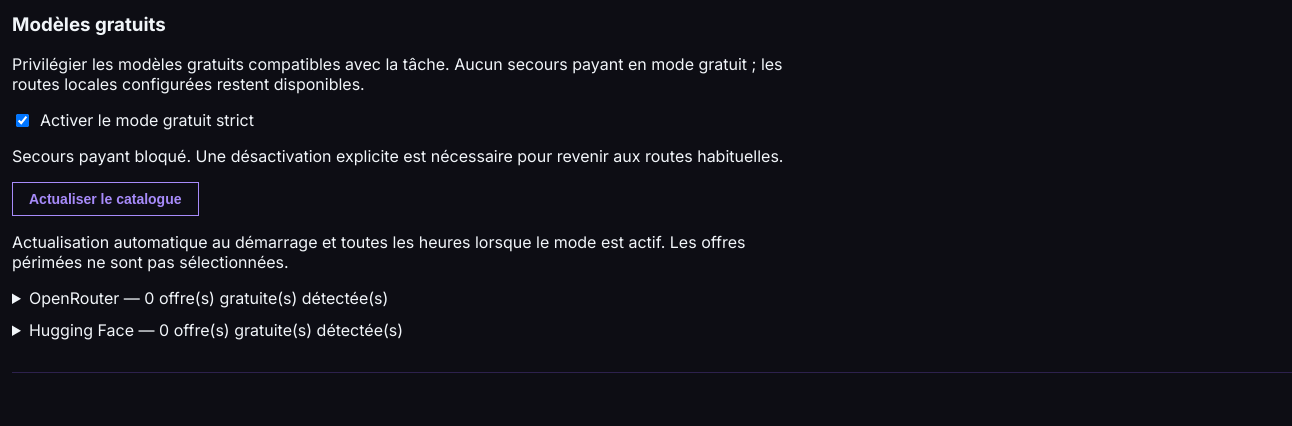
strict free-model controls › displays catalog errors and keeps the active policy after a failed update
The image size is (1292, 426).
expect the checkbox is shown: met, box [16,114,29,127]
Step 1. Click the button "Actualiser le catalogue" → (105, 199), box [12,182,198,216]
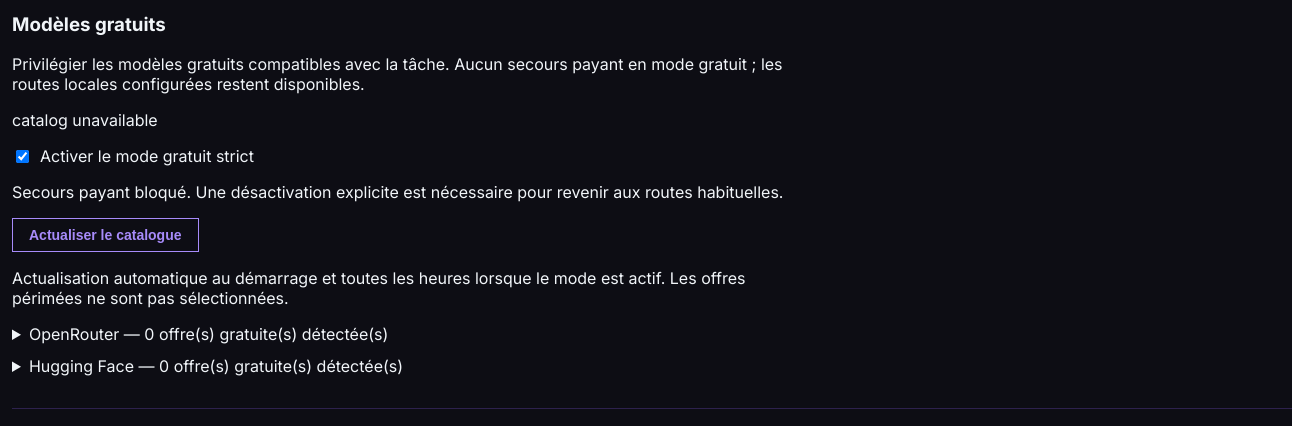
expect the checkbox is checked: met, box [16,150,29,163]
expect the message reads "catalog unavailable": met, box [12,110,158,130]
